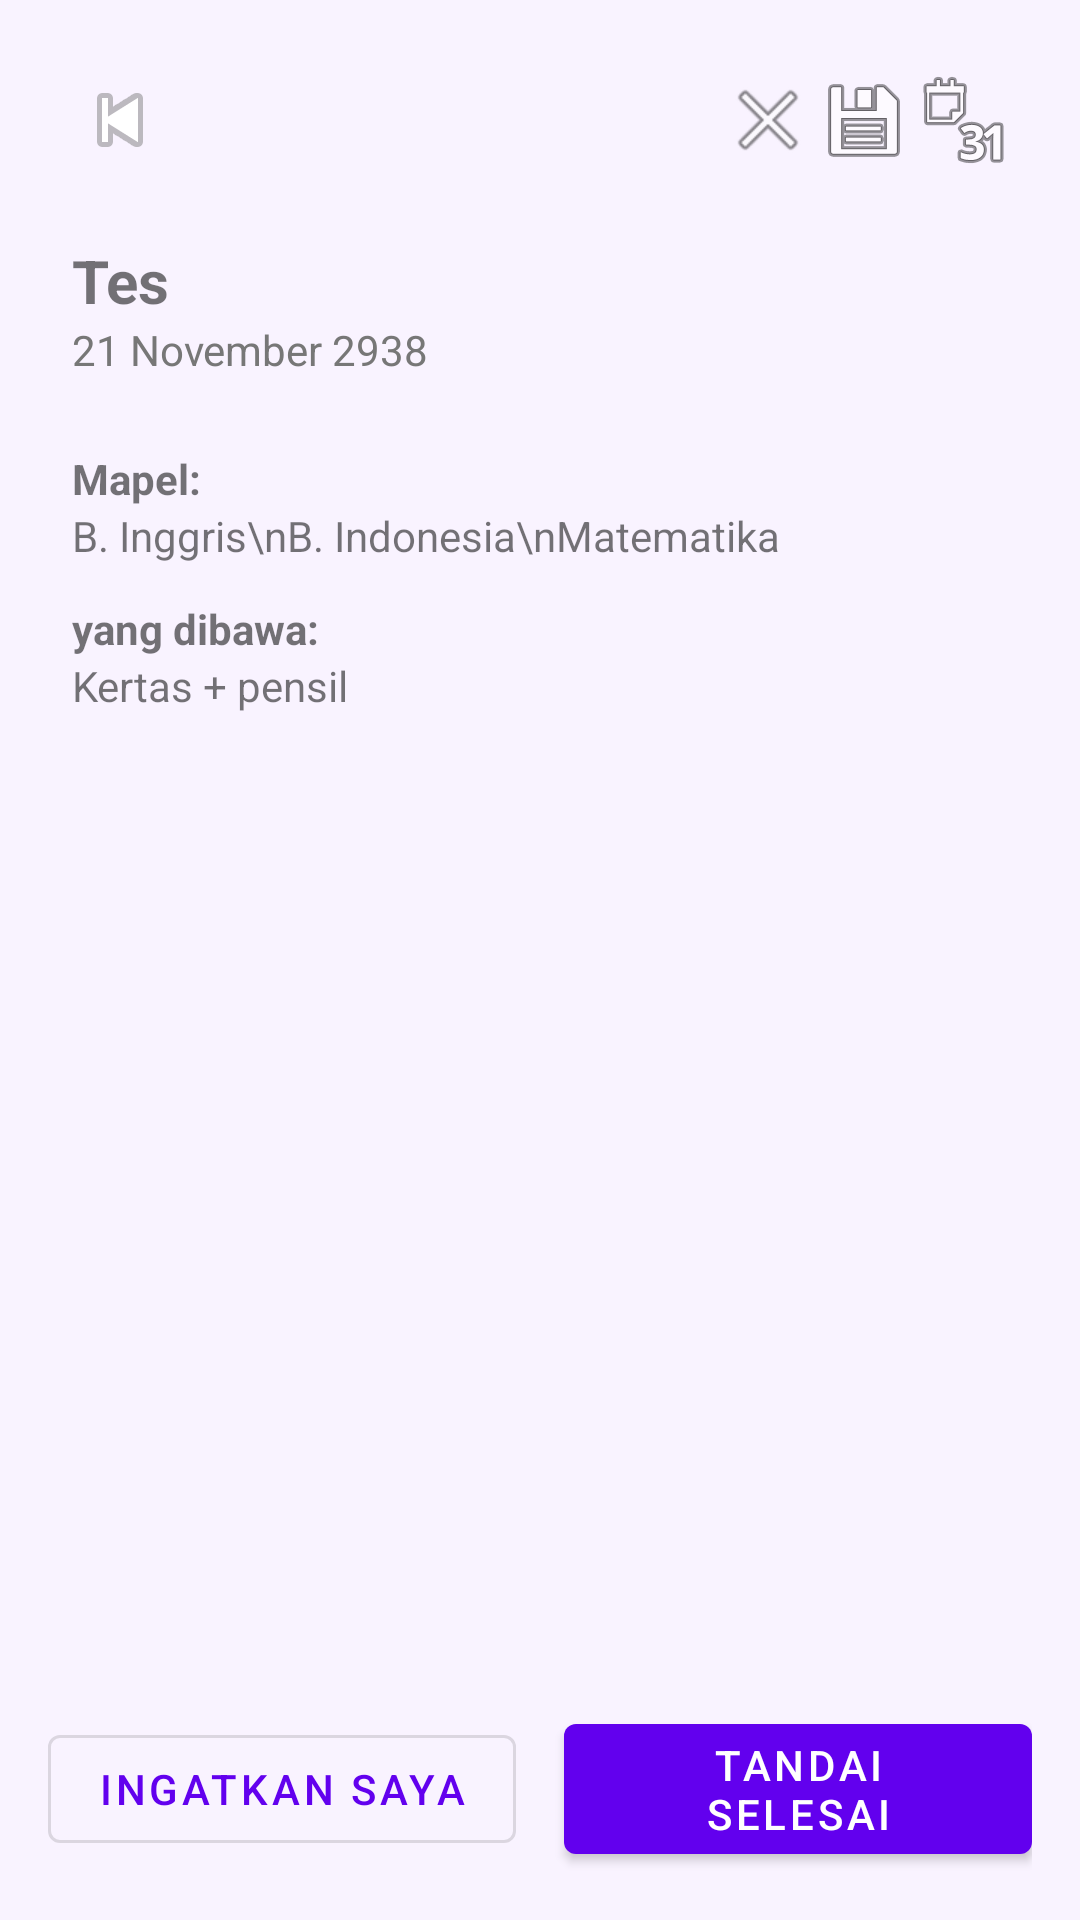

Screen size 1080px×1920px. Icon name, then its center in pixels as point (x, y):
close clear cancel: point (768, 120)
month: point (963, 120)
previous: point (120, 120)
save: point (864, 120)
